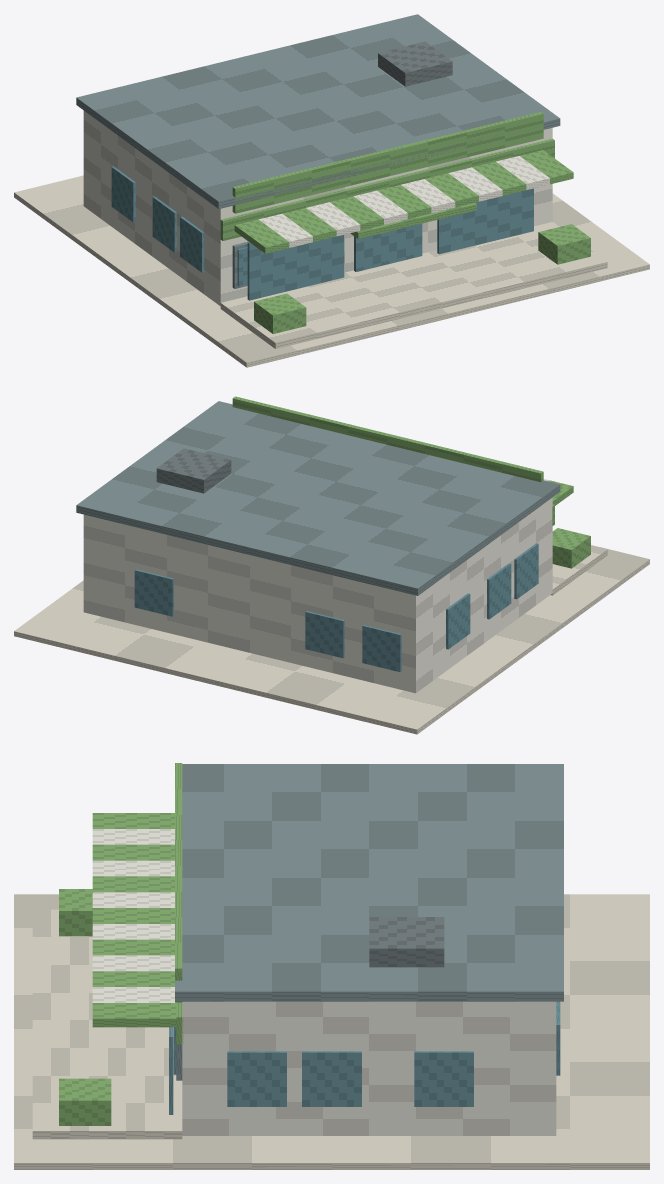
The model's file is market.glb.
3 renders of one model, top to bottom at view 1: azimuth 30°, elevation 25°; view 2: azimuth 150°, elevation 25°; view 3: azimuth 270°, elevation 25°, orthographic. The views are drawn at different scales.
Parts seen in each view (by area): view 1: Flat roof coping, Service forecourt, Entry plaza, Public building, Striped shop awning (×13), Shop fascia, Display glazing (×2), Facade color band, Store planter (×2), Side window (×3), Air conditioning, Glazed entry (+1 smaller); view 2: Flat roof coping, Public building, Service forecourt, Rear window (×3), Shop fascia, Side window (×3), Air conditioning, Store planter, Entry plaza; view 3: Flat roof coping, Service forecourt, Public building, Entry plaza, Striped shop awning (×13), Side window (×3), Store planter (×2), Air conditioning, Shop fascia.
Boxes of the visible parts, x1=… form: Flat roof coping: x1=76, y1=14, x2=560, y2=208; Service forecourt: x1=14, y1=175, x2=649, y2=367; Entry plaza: x1=220, y1=222, x2=607, y2=348; Public building: x1=83, y1=110, x2=552, y2=305; Striped shop awning (×13): x1=234, y1=150, x2=573, y2=253; Shop fascia: x1=232, y1=112, x2=543, y2=213; Display glazing (×2): x1=247, y1=188, x2=533, y2=300; Facade color band: x1=220, y1=138, x2=554, y2=240; Store planter (×2): x1=254, y1=224, x2=590, y2=333; Side window (×3): x1=111, y1=166, x2=204, y2=272; Air conditioning: x1=378, y1=41, x2=452, y2=86; Glazed entry: x1=354, y1=223, x2=422, y2=271; Flat roof coping: x1=76, y1=401, x2=560, y2=595; Public building: x1=83, y1=497, x2=552, y2=693; Service forecourt: x1=14, y1=545, x2=649, y2=734; Rear window (×3): x1=134, y1=569, x2=401, y2=671; Shop fascia: x1=232, y1=396, x2=543, y2=482; Side window (×3): x1=446, y1=543, x2=538, y2=649; Air conditioning: x1=156, y1=448, x2=231, y2=493; Store planter: x1=552, y1=528, x2=590, y2=568; Entry plaza: x1=551, y1=545, x2=607, y2=595; Flat roof coping: x1=175, y1=764, x2=563, y2=1001; Service forecourt: x1=14, y1=894, x2=649, y2=1169; Public building: x1=182, y1=1001, x2=556, y2=1135; Entry plaza: x1=32, y1=909, x2=182, y2=1139; Striped shop awning (×13): x1=92, y1=813, x2=176, y2=1027; Side window (×3): x1=227, y1=1051, x2=473, y2=1106; Store planter (×2): x1=59, y1=889, x2=111, y2=1125; Air conditioning: x1=369, y1=917, x2=444, y2=967; Shop fascia: x1=175, y1=763, x2=182, y2=1002.
Bounding box in the file's own units: 17 × 5.2 × 17.
Materials: 6 (6 with a texture image).
